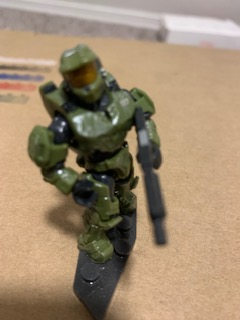chief: (23, 41, 163, 263)
rifle: (130, 103, 174, 250)
spartan: (21, 39, 161, 261)
